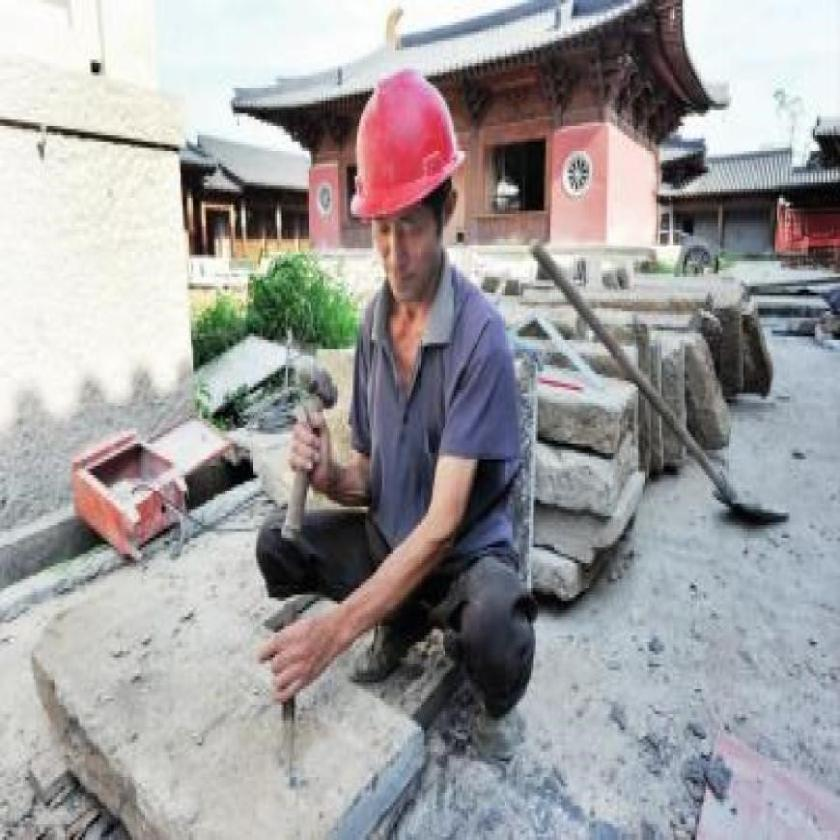Con_casco: (347, 64, 467, 300)
